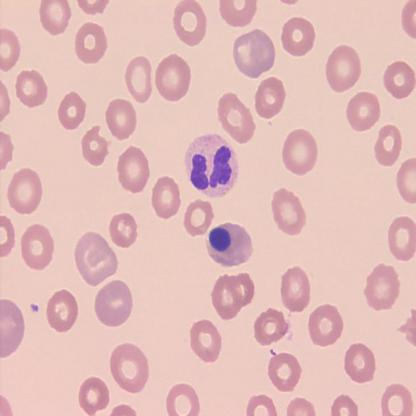NRC: (203, 219, 254, 270)
